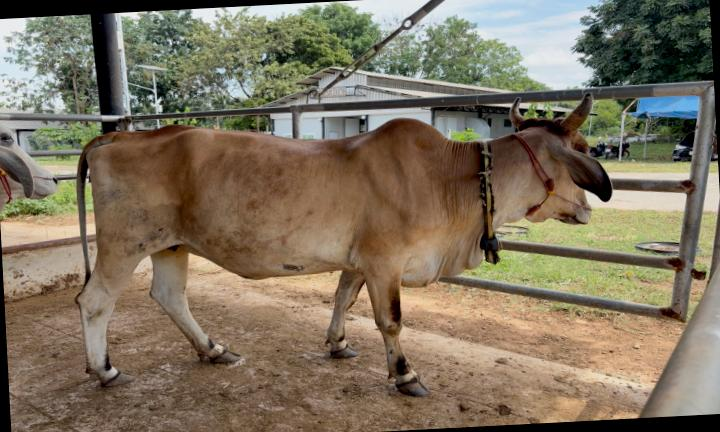Brahman: (76, 93, 612, 395)
